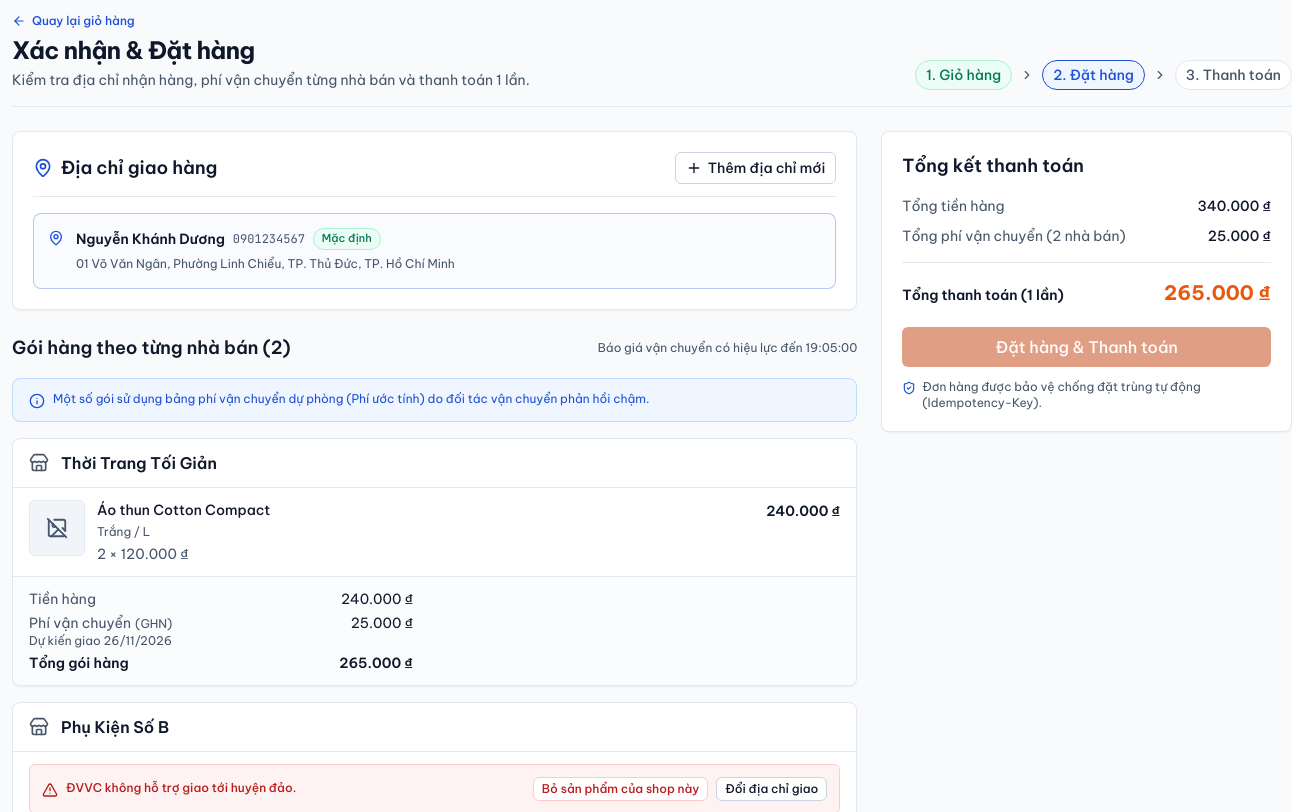
Test: T4-06: Checkout (/checkout) & <= 3 Screens Flow › highlights unserviceable shop on /checkout and allows removing its items
Check: the text "ĐVVC không hỗ trợ giao tới huyện đảo." is shown, box [66, 780, 296, 796]
Check: the button "Đặt hàng & Thanh toán" is disabled, box [902, 327, 1271, 367]
Step 1. Click the button "Bỏ sản phẩm của shop này" → {"x": 620, "y": 789}, box [533, 777, 708, 801]
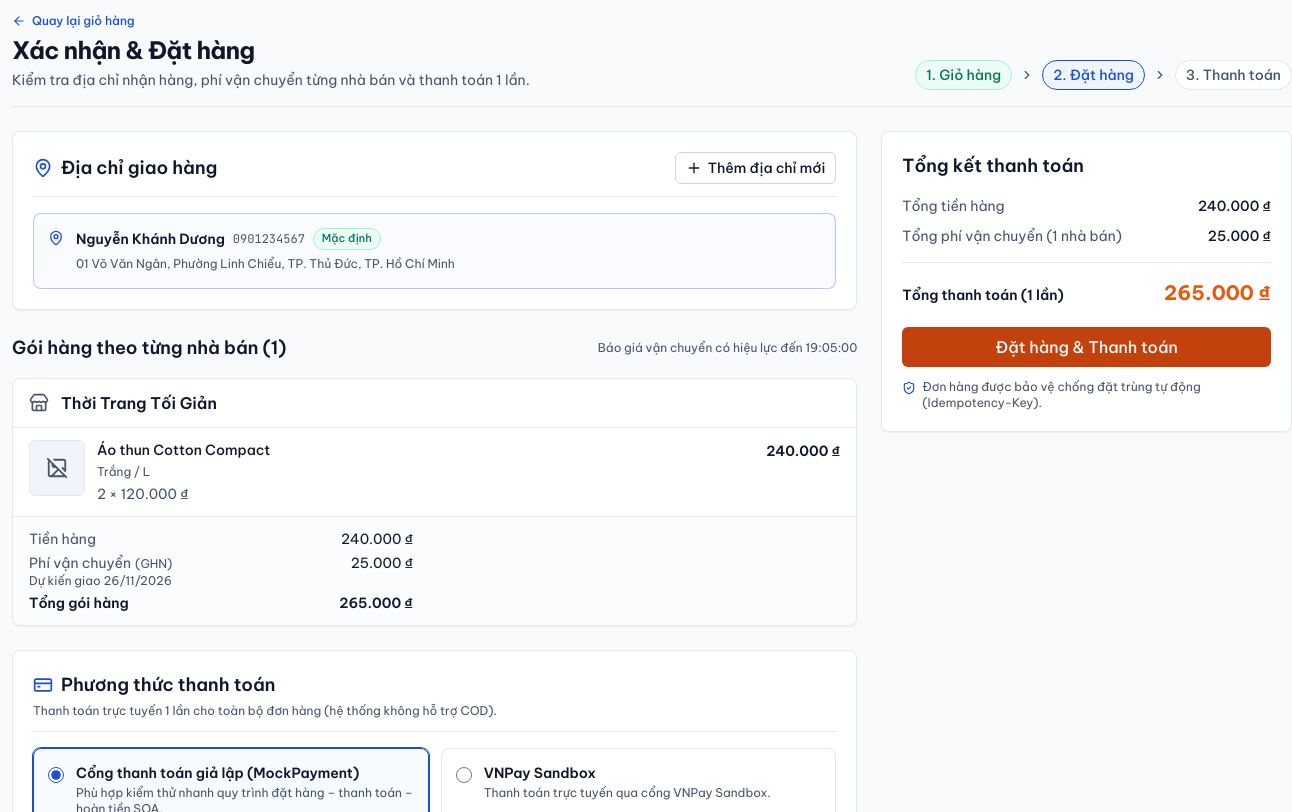
Check: the button "Đặt hàng & Thanh toán" is enabled, box [902, 327, 1271, 367]
